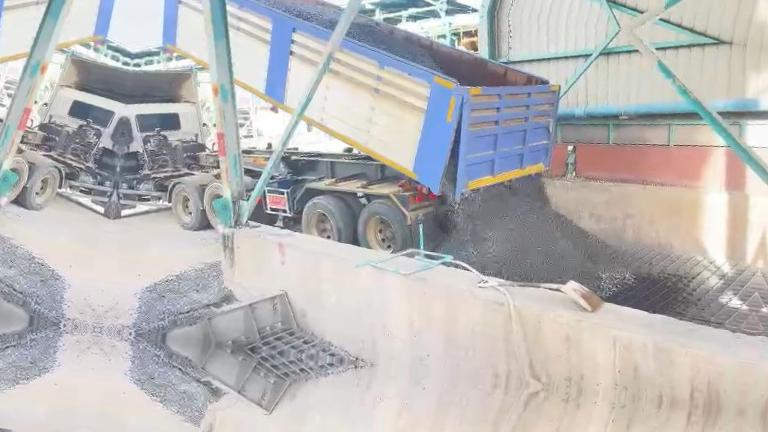gravel: (437, 176, 634, 296), (132, 261, 233, 335), (348, 15, 441, 72), (251, 0, 340, 30), (442, 135, 460, 234)
